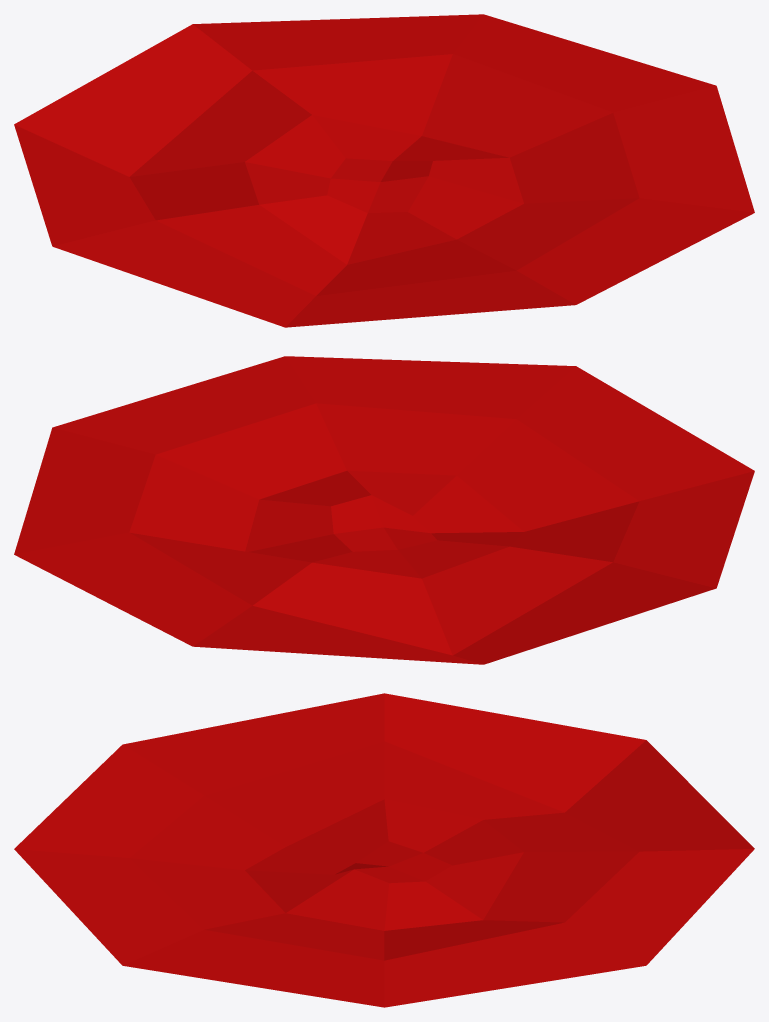
The model's file is Chalice_Wine.fbx.
The picture shows the model from 3 angles, top to bottom: view 1: azimuth 30°, elevation 25°; view 2: azimuth 150°, elevation 25°; view 3: azimuth 270°, elevation 25°; orthographic projection. The views are drawn at different scales.
Parts seen in each view (by area): view 1: Challice_Liquid_Wine; view 2: Challice_Liquid_Wine; view 3: Challice_Liquid_Wine.
Part boxes in pixels (x1,y1,x2,y2): Challice_Liquid_Wine: [14, 14, 754, 327]; Challice_Liquid_Wine: [14, 356, 754, 664]; Challice_Liquid_Wine: [14, 693, 754, 1007].
Size of the model in its own units: 147 by 9.3 by 147.
